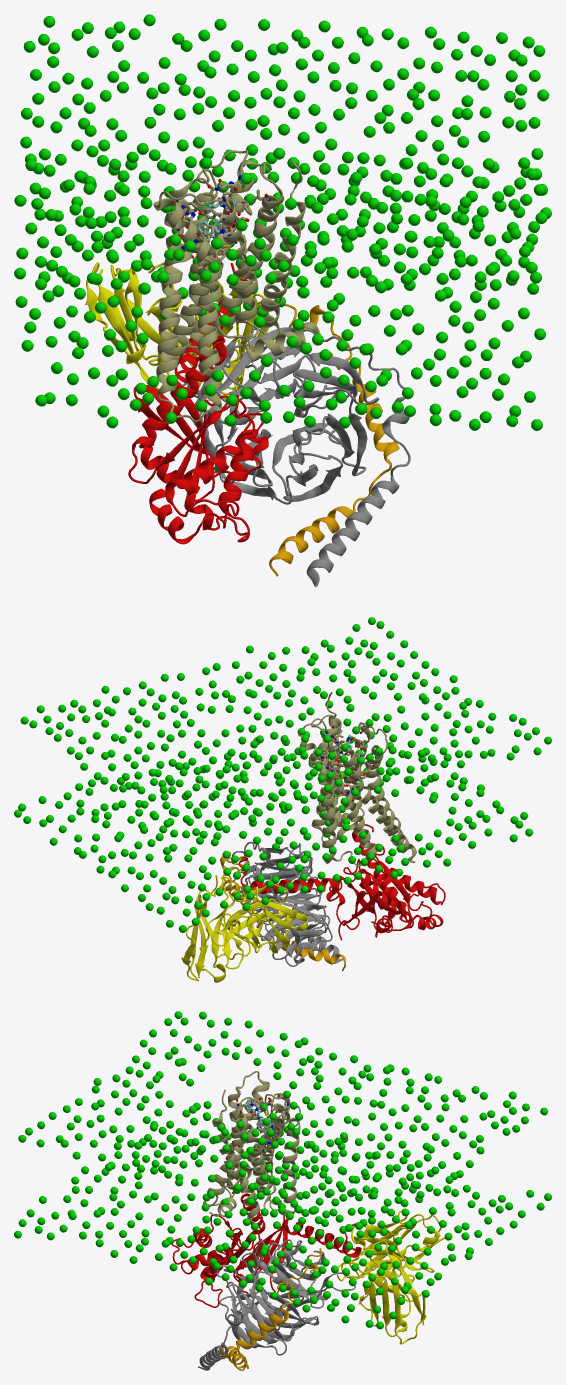
The model's file is modelDraco.glb.
3 renders of one model, top to bottom at view 1: azimuth 30°, elevation 25°; view 2: azimuth 150°, elevation 25°; view 3: azimuth 270°, elevation 25°, orthographic. The views are drawn at different scales.
Visible parts, largest first — view 1: vmd_mol0_rep0, vmd_mol3_rep0, vmd_mol3_rep2; view 2: vmd_mol0_rep0, vmd_mol3_rep0, vmd_mol3_rep2; view 3: vmd_mol0_rep0, vmd_mol3_rep0, vmd_mol3_rep2.
Part boxes in pixels (x1,y1,x2,y2): vmd_mol0_rep0: [14, 14, 551, 430]; vmd_mol3_rep0: [85, 150, 413, 588]; vmd_mol3_rep2: [175, 175, 270, 279]; vmd_mol0_rep0: [14, 617, 551, 932]; vmd_mol3_rep0: [181, 692, 445, 982]; vmd_mol3_rep2: [317, 722, 374, 801]; vmd_mol0_rep0: [14, 1011, 551, 1329]; vmd_mol3_rep0: [171, 1071, 444, 1370]; vmd_mol3_rep2: [234, 1087, 289, 1153].
Size of the model in its own units: 3.44 by 2.1 by 3.68.
